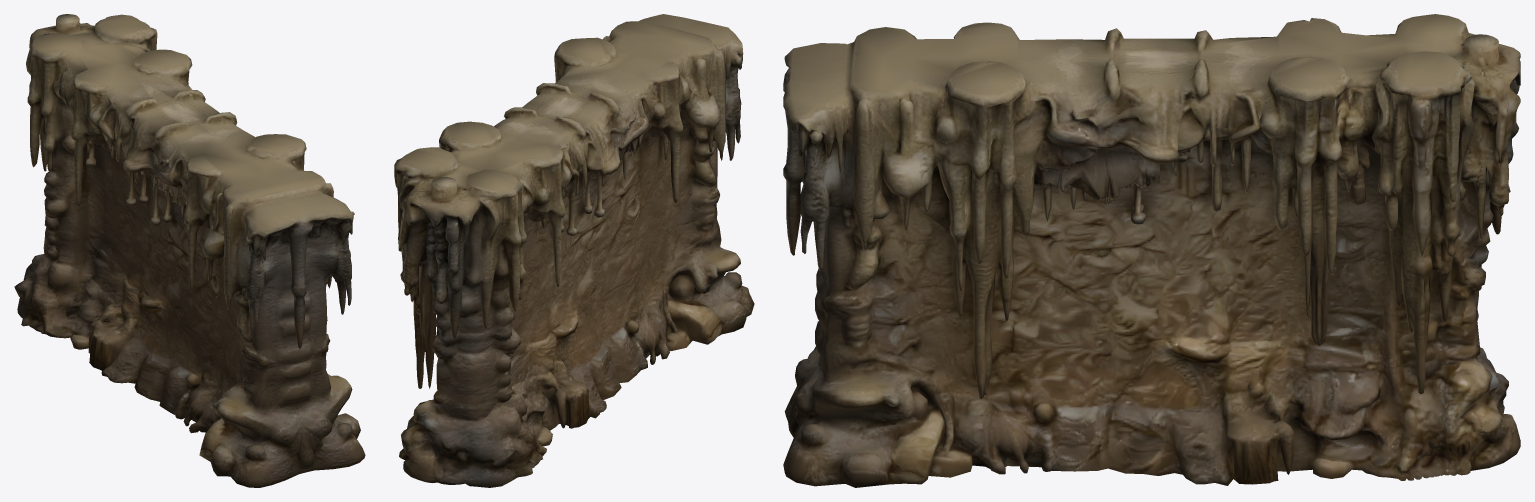
The model's file is cav_flowstone_drapery_wall.glb.
The picture shows the model from 3 angles, left to right: view 1: azimuth 30°, elevation 25°; view 2: azimuth 150°, elevation 25°; view 3: azimuth 270°, elevation 25°; orthographic projection. The views are drawn at different scales.
Parts seen in each view (by area): view 1: tripo_node_7b1ac8a0-77a8-4fd8-9107-2be55535e6d0; view 2: tripo_node_7b1ac8a0-77a8-4fd8-9107-2be55535e6d0; view 3: tripo_node_7b1ac8a0-77a8-4fd8-9107-2be55535e6d0.
Boxes of the visible parts, x1,y1,x2,y2 form: tripo_node_7b1ac8a0-77a8-4fd8-9107-2be55535e6d0: (14, 14, 365, 487); tripo_node_7b1ac8a0-77a8-4fd8-9107-2be55535e6d0: (394, 14, 754, 487); tripo_node_7b1ac8a0-77a8-4fd8-9107-2be55535e6d0: (783, 14, 1520, 487).
Bounding box in the file's own units: 0.3262 × 0.6074 × 0.998.
1 material, 1 textured.
